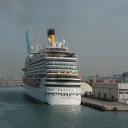cruises: (23, 28, 85, 107)
